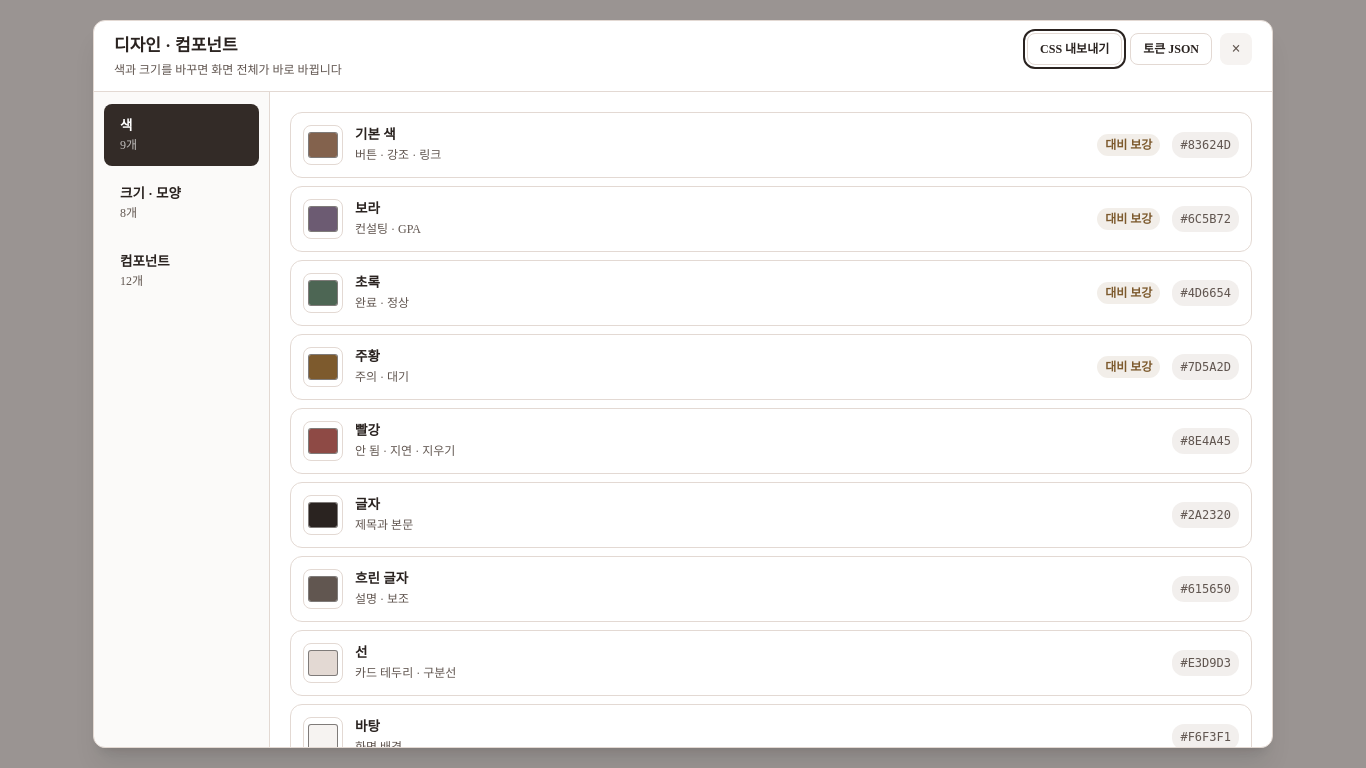
Test: 견본에서 색을 고르면 문서 뿌리의 변수가 바뀌고, 「처음으로」가 되돌린다 (85-2)
Expected: the button "처음으로" is not shown
In the colour field named "기본 색 바꾸기": (323, 144) [303,124,343,164], type "#112233"
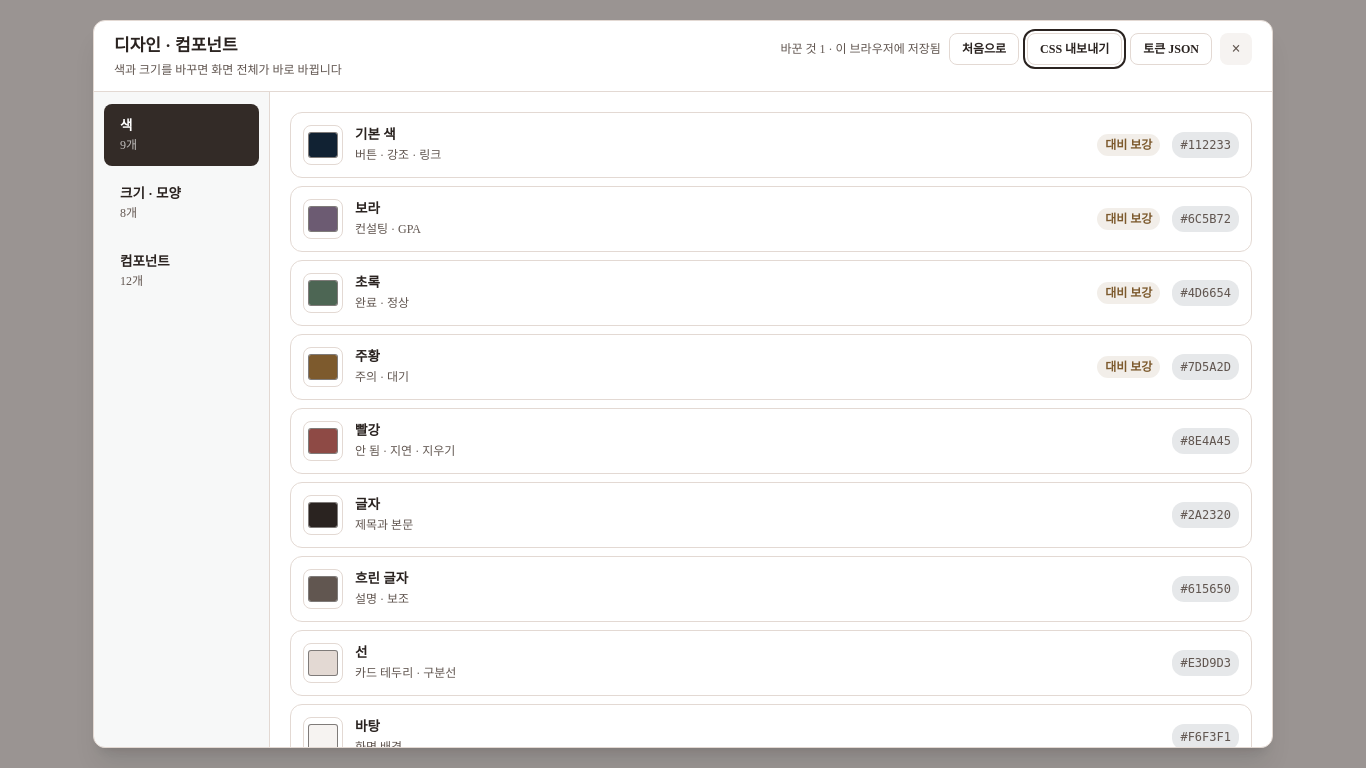
Expected: the text "#112233" is shown, [1172,132,1239,158]
Expected: the text "바꾼 것 1 · 이 브라우저에 저장됨" is shown, [780,40,941,58]
Click the button "처음으로": (984, 49) [949,33,1019,65]
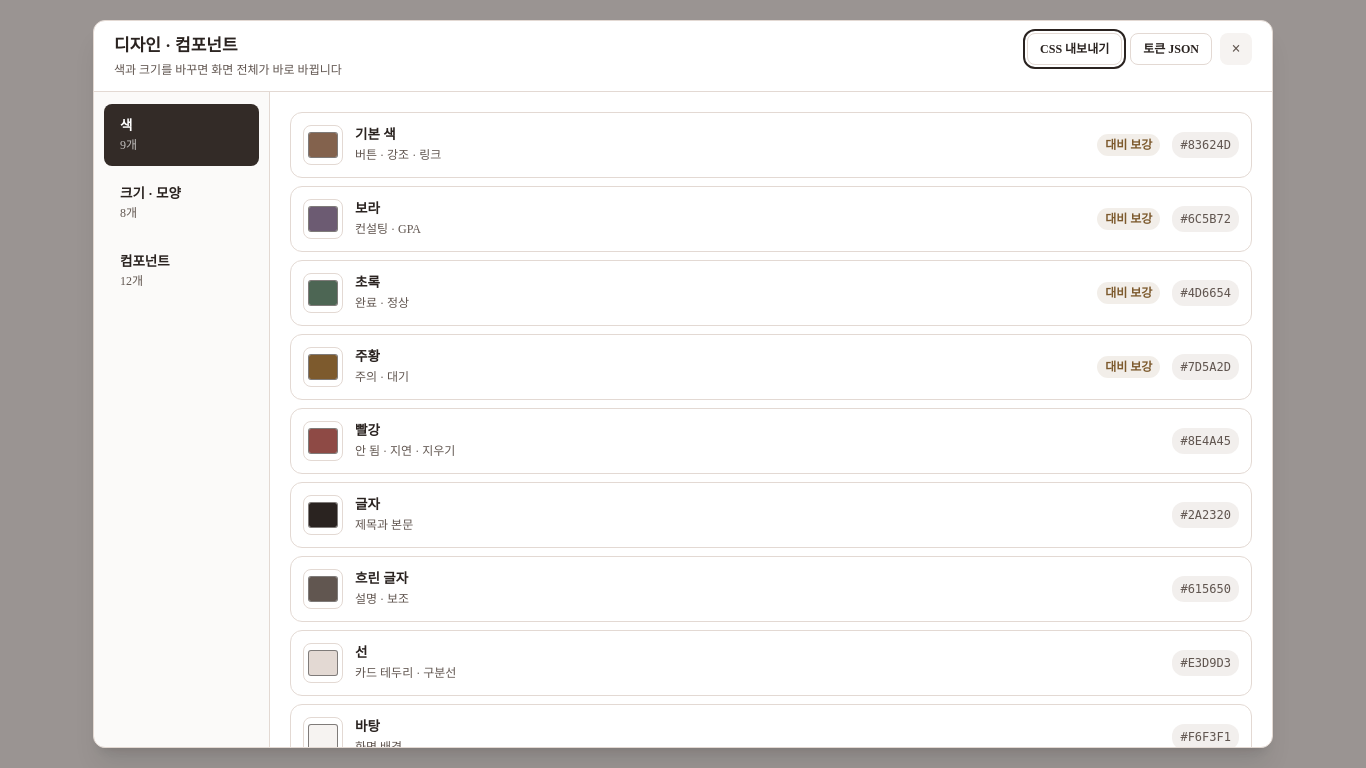
Expected: the button "처음으로" is gone
